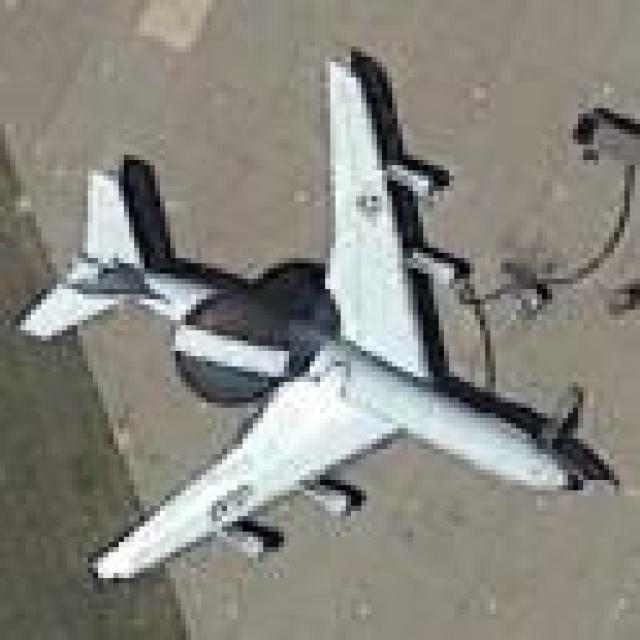E-3_TopDown: (16, 41, 620, 584)
